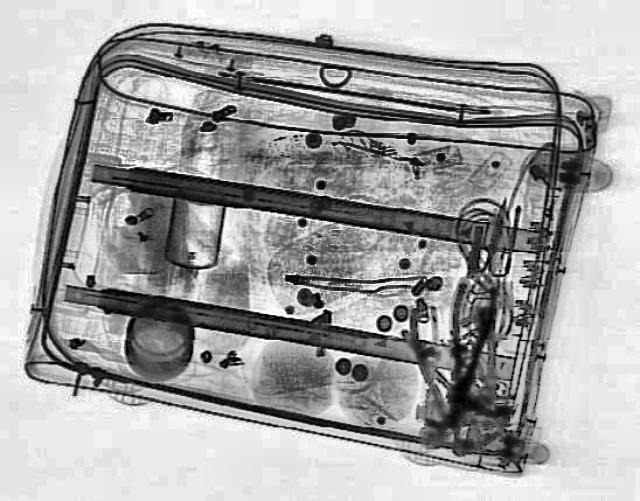Pliers: (434, 280, 502, 400)
